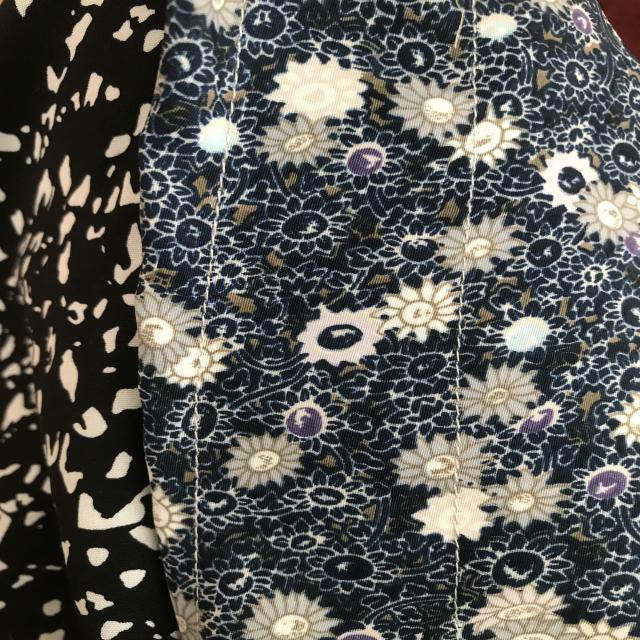good: (180, 451, 211, 545), (436, 328, 466, 420), (211, 170, 233, 222), (447, 554, 466, 602)
